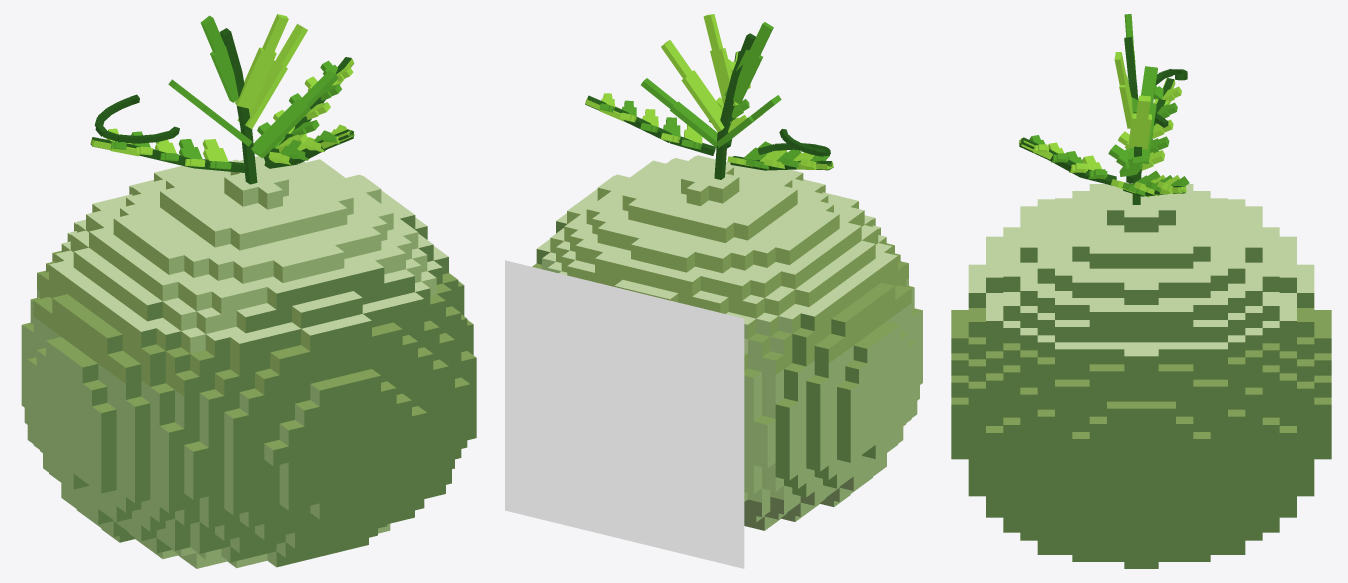
The model's file is slime_dendro.glb.
3 renders of one model, left to right at view 1: azimuth 30°, elevation 25°; view 2: azimuth 150°, elevation 25°; view 3: azimuth 270°, elevation 25°, orthographic. The views are drawn at different scales.
Parts seen in each view (by area): view 1: Shell, DendroGrowth; view 2: Shell, Face, DendroGrowth; view 3: Shell, DendroGrowth.
Boxes of the visible parts, bbox=[...] form: Shell: bbox=[21, 156, 476, 568]; DendroGrowth: bbox=[90, 14, 354, 184]; Shell: bbox=[532, 155, 922, 530]; Face: bbox=[505, 260, 744, 568]; DendroGrowth: bbox=[585, 14, 833, 179]; Shell: bbox=[951, 184, 1331, 568]; DendroGrowth: bbox=[1019, 14, 1189, 204].
Bounding box in the file's own units: 1.2 × 1.56 × 1.15.
